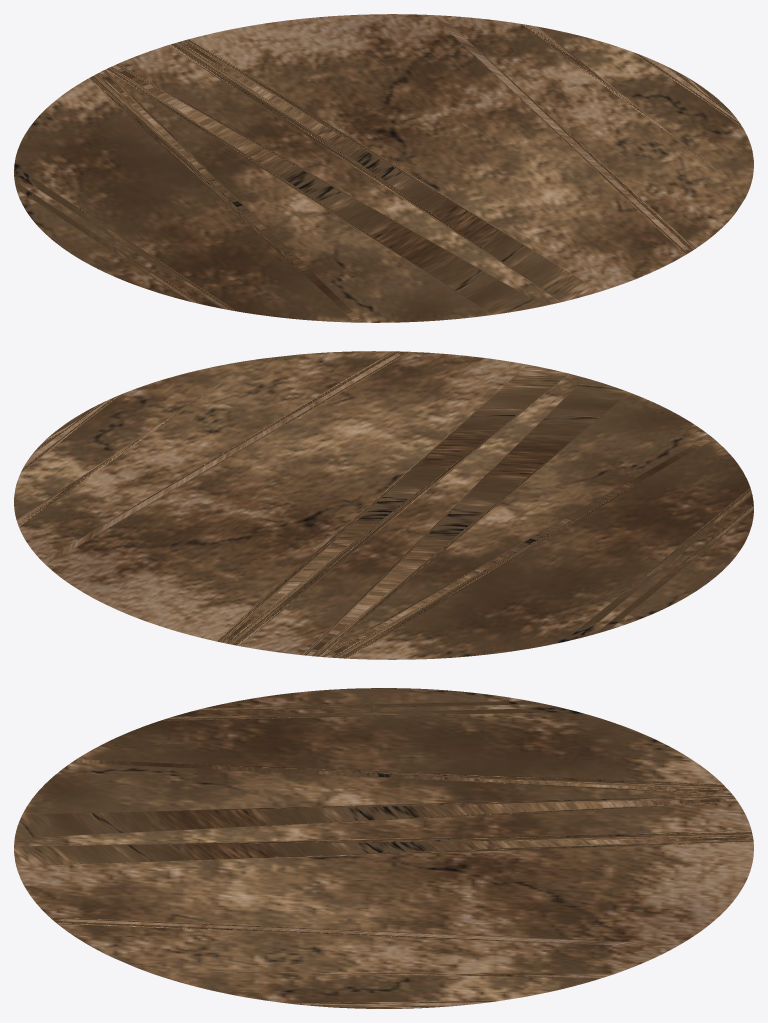
File: BossFieldCol.obj
The picture shows the model from 3 angles, top to bottom: view 1: azimuth 30°, elevation 25°; view 2: azimuth 150°, elevation 25°; view 3: azimuth 270°, elevation 25°; orthographic projection.
Visible parts, largest first — view 1: 円柱; view 2: 円柱; view 3: 円柱.
Part boxes in pixels (x1=…): 円柱: x1=14, y1=14, x2=753, y2=322; 円柱: x1=14, y1=351, x2=753, y2=659; 円柱: x1=14, y1=688, x2=753, y2=1008.
Size of the model in its own units: 114 by 1.72e-05 by 111.
Materials: 1 (1 with a texture image).
